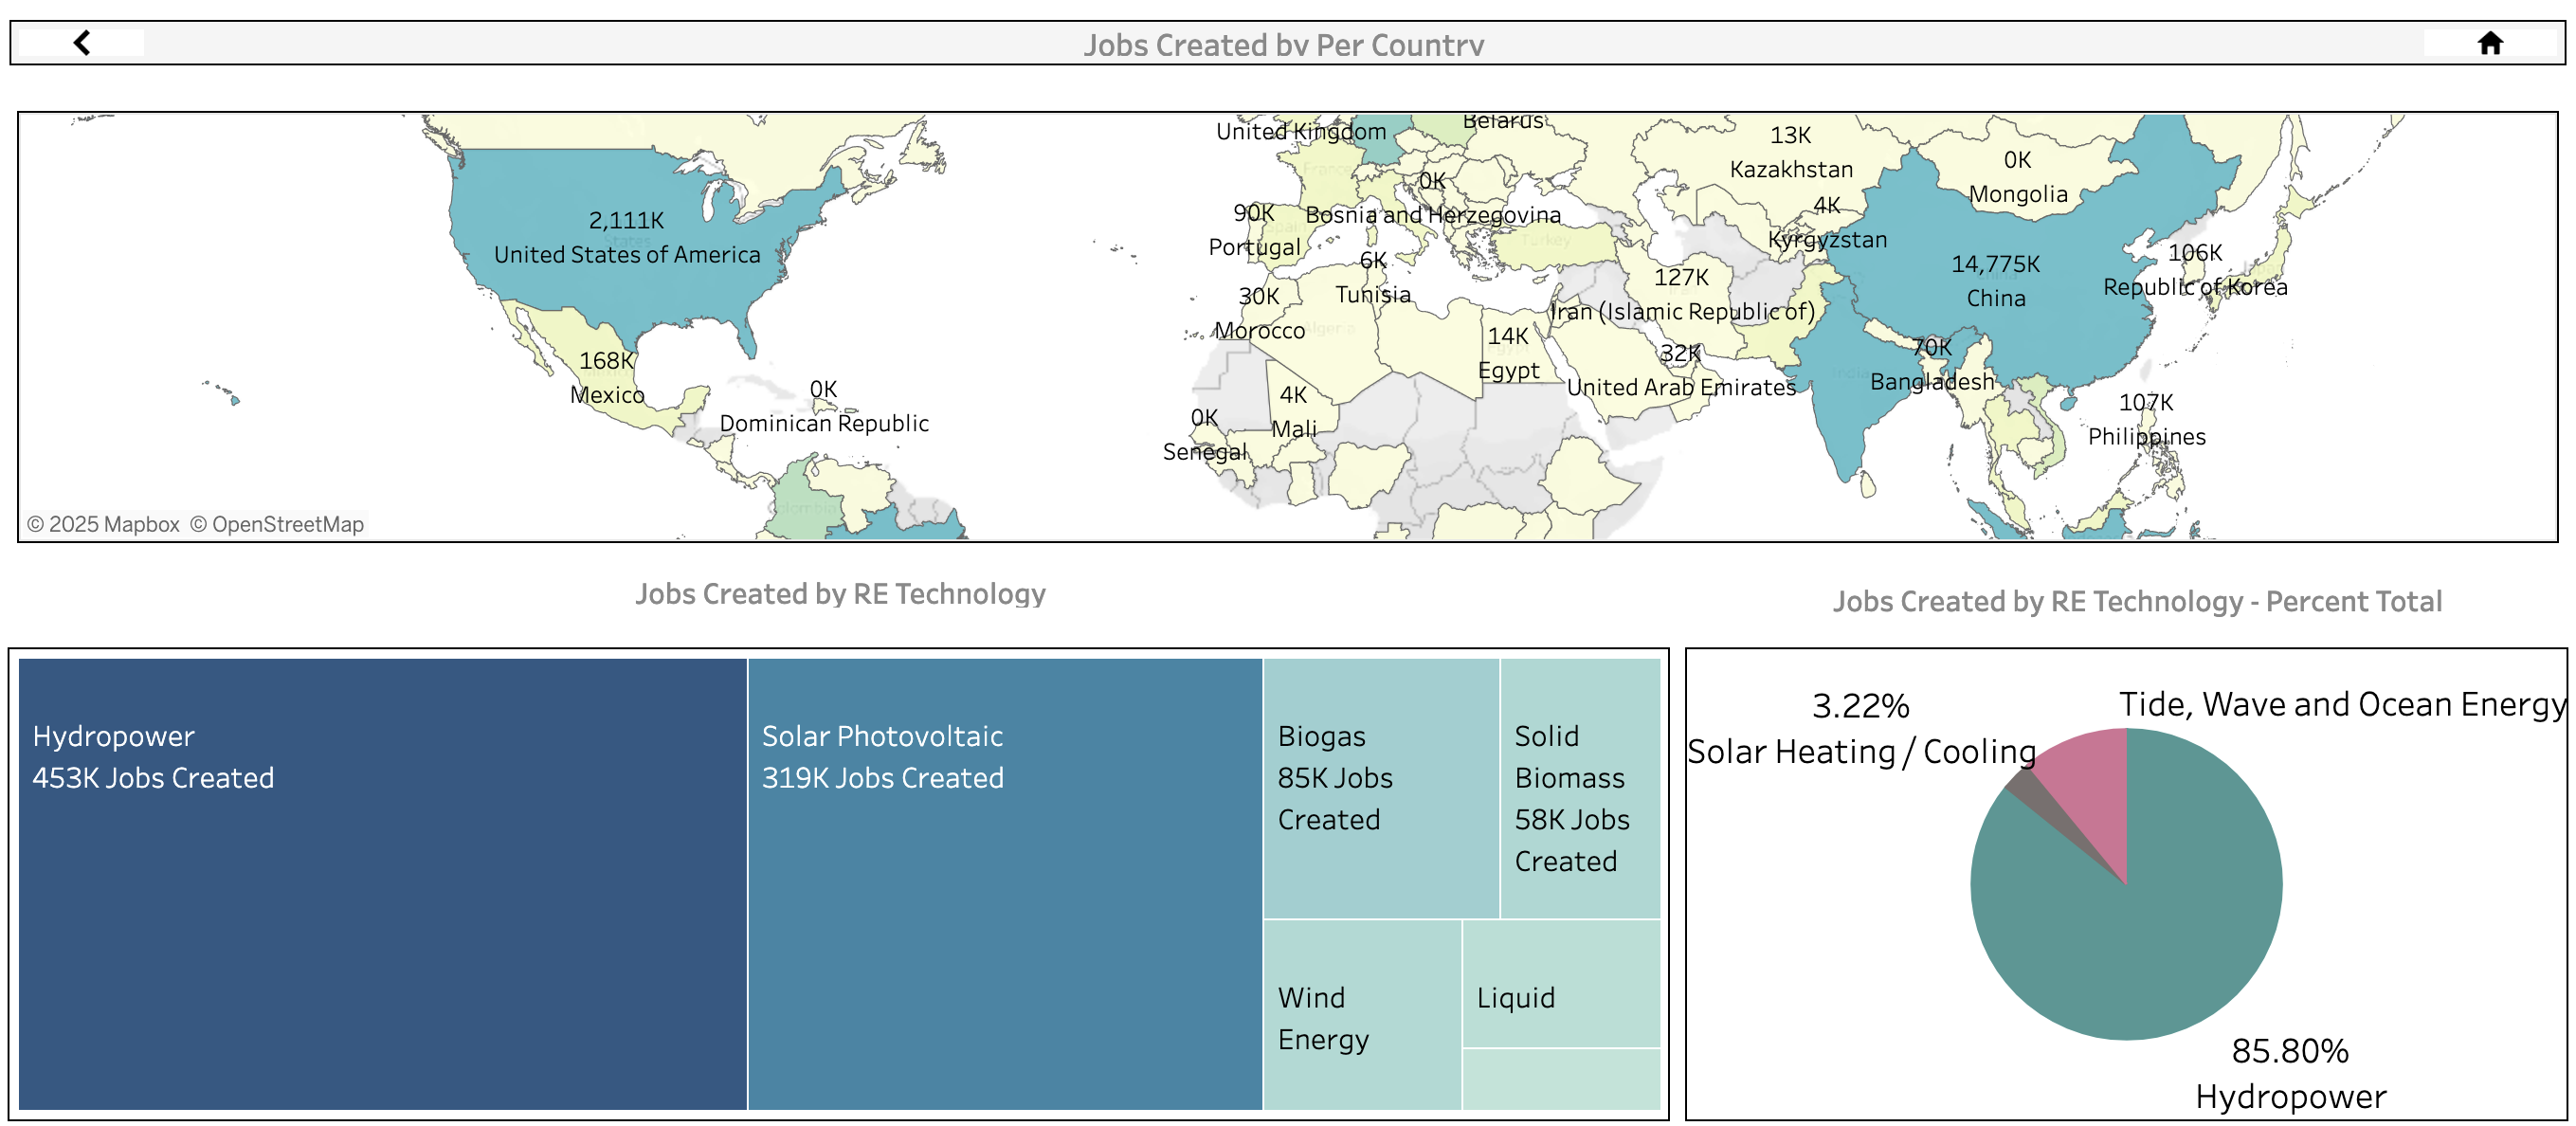

The dashboard page shown, as its layout file describes it:
{"tool":"tableau","page":{"name":"Jobs Dashboard","canvas":[1000,1000],"units":"permille","ordinal":1},"visuals":[{"type":"dashboard-object","box":[15.5,28.7,60.2,39]},{"type":"text","box":[75.7,28.7,845.4,39]},{"type":"dashboard-object","box":[921.1,28.7,63.5,39]},{"type":"worksheet","title":"Jobs Created Per Country in RE Industry (2024)-MAP","mark":"Automatic","box":[14.7,99.3,970.7,385]},{"type":"text","box":[6.5,499.4,646.8,39.1]},{"type":"text","box":[653.3,499.4,340.2,52.2]},{"type":"worksheet","title":"Jobs Created Per RE Sector Globally","mark":"Automatic","box":[10.6,559.1,720.1,421.3]},{"type":"worksheet","title":"job pie","mark":"Pie","box":[730.7,559.1,258.7,421.3]}]}

Visuals, with their boxes on the dashboard's canvas, which has no fixed pixel size, in thousandths of its width and height (x1, y1, x2, y2). These are canvas units, not pixel positions in the 2576x1126 screenshot, which may show the page scaled, cropped or inside an application window:
dashboard-object: x1=16 y1=29 x2=76 y2=68
text: x1=76 y1=29 x2=921 y2=68
dashboard-object: x1=921 y1=29 x2=985 y2=68
"Jobs Created Per Country in RE Industry (2024)-MAP" worksheet: x1=15 y1=99 x2=985 y2=484
text: x1=6 y1=499 x2=653 y2=538
text: x1=653 y1=499 x2=994 y2=552
"Jobs Created Per RE Sector Globally" worksheet: x1=11 y1=559 x2=731 y2=980
"job pie" worksheet (Pie marks): x1=731 y1=559 x2=989 y2=980
